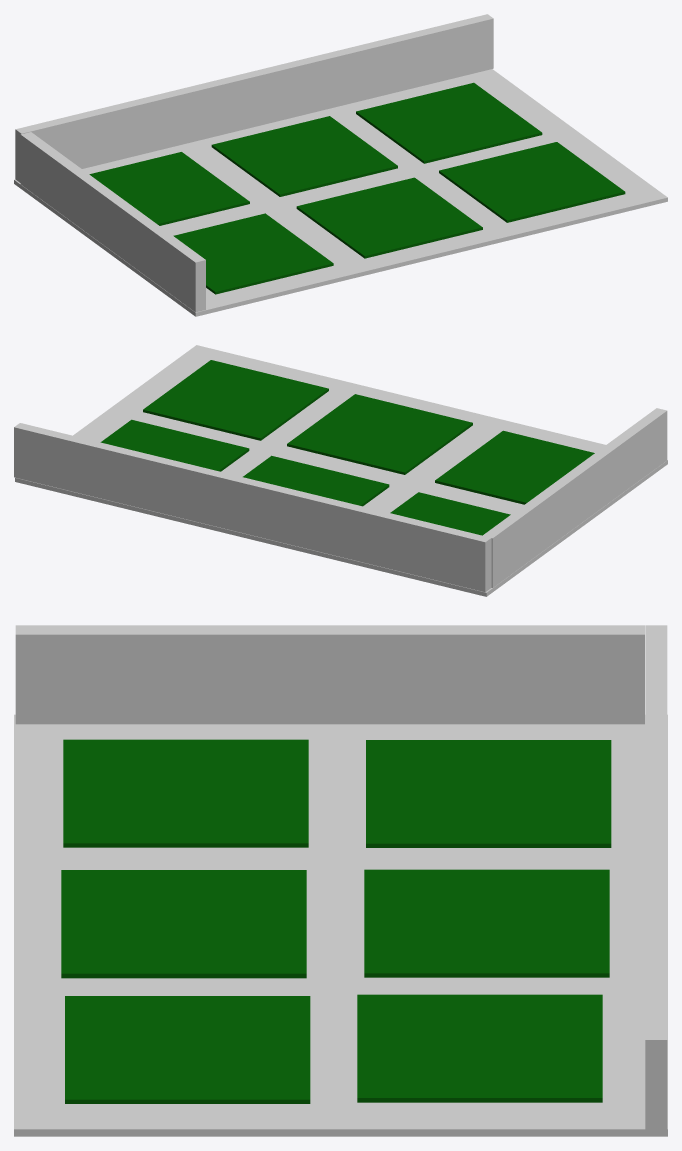
File: floor(2x3).glb
3 views of the same model, one above another, from view 1: azimuth 30°, elevation 25°; view 2: azimuth 150°, elevation 25°; view 3: azimuth 270°, elevation 25° (orthographic). The views are drawn at different scales.
Parts seen in each view (by area): view 1: Cube, Cube.007, Cube.008, Cube.004, Cube.001, Cube.002, Cube.003, Cube.006, Cube.005; view 2: Cube.007, Cube, Cube.008, Cube.003, Cube.001, Cube.006, Cube.002, Cube.004, Cube.005; view 3: Cube, Cube.008, Cube.003, Cube.004, Cube.006, Cube.002, Cube.005, Cube.001, Cube.007.
Boxes of the visible parts, bbox=[...] form: Cube: bbox=[14, 69, 667, 316]; Cube.007: bbox=[15, 14, 493, 182]; Cube.008: bbox=[20, 132, 205, 312]; Cube.004: bbox=[211, 116, 397, 196]; Cube.001: bbox=[439, 142, 625, 222]; Cube.002: bbox=[356, 82, 542, 163]; Cube.003: bbox=[296, 177, 482, 258]; Cube.006: bbox=[173, 213, 333, 294]; Cube.005: bbox=[89, 152, 249, 225]; Cube.007: bbox=[14, 423, 491, 592]; Cube: bbox=[15, 345, 667, 596]; Cube.008: bbox=[483, 408, 667, 587]; Cube.003: bbox=[287, 394, 472, 474]; Cube.001: bbox=[143, 360, 328, 440]; Cube.006: bbox=[435, 430, 594, 504]; Cube.002: bbox=[100, 419, 249, 471]; Cube.004: bbox=[243, 455, 389, 506]; Cube.005: bbox=[390, 492, 510, 535]; Cube: bbox=[14, 714, 667, 1136]; Cube.008: bbox=[15, 625, 644, 724]; Cube.003: bbox=[61, 870, 306, 978]; Cube.004: bbox=[364, 869, 609, 977]; Cube.006: bbox=[63, 739, 308, 847]; Cube.002: bbox=[357, 994, 602, 1102]; Cube.005: bbox=[366, 740, 611, 847]; Cube.001: bbox=[65, 996, 310, 1103]; Cube.007: bbox=[645, 625, 667, 1130].
Bounding box in the file's own units: 12.03 × 1.32 × 8.
